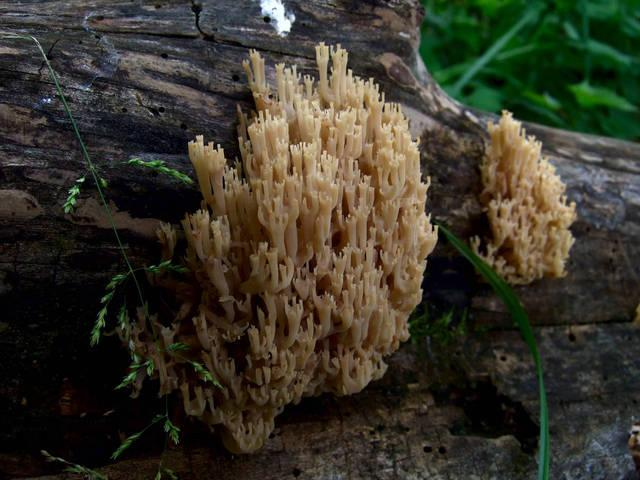edible_mushroom: (110, 39, 439, 454), (468, 108, 578, 286)
